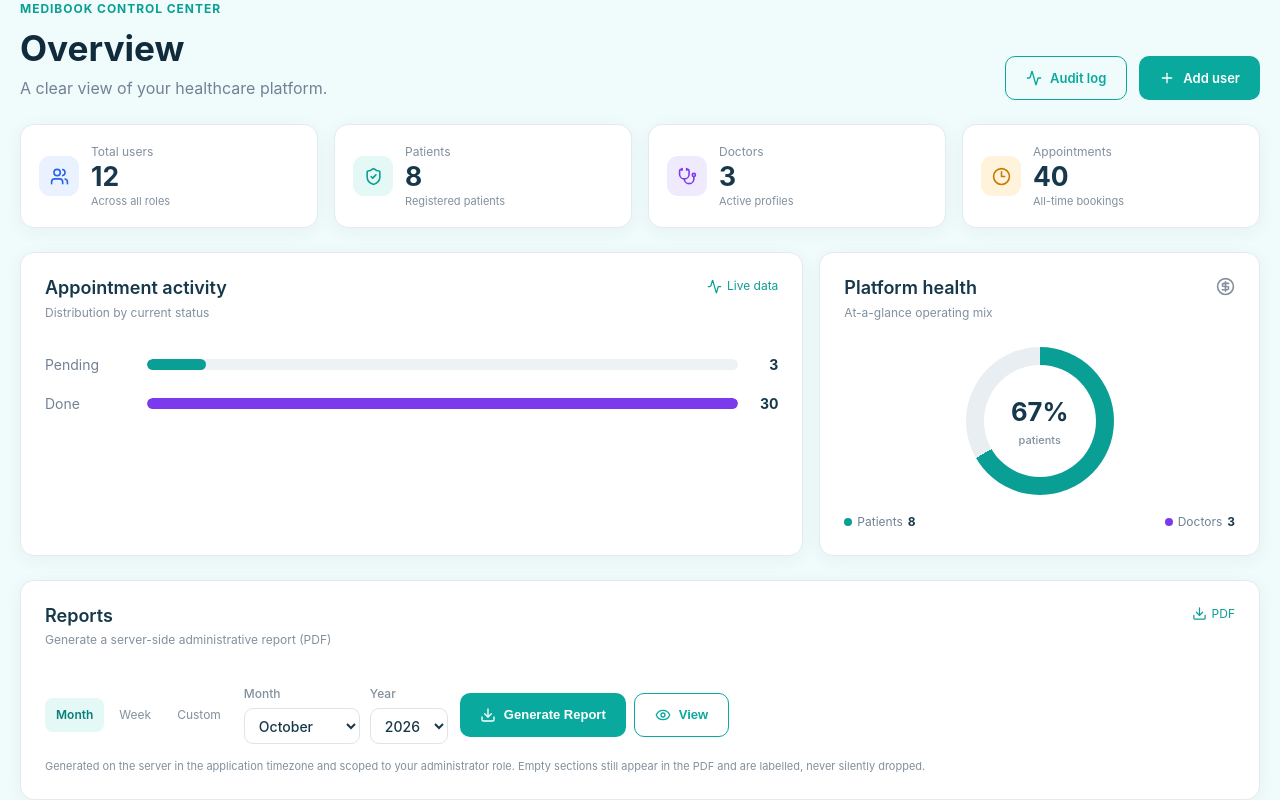
Scenario: AdminReportsCard › surfaces the server's reason when generation fails
This screenshot has width=1280, height=800.
Expected: the heading "Reports" is shown, [45, 605, 113, 626]
Step 1. Click the button "Generate Report" → (543, 715), box [460, 693, 626, 737]
(page scrolled)
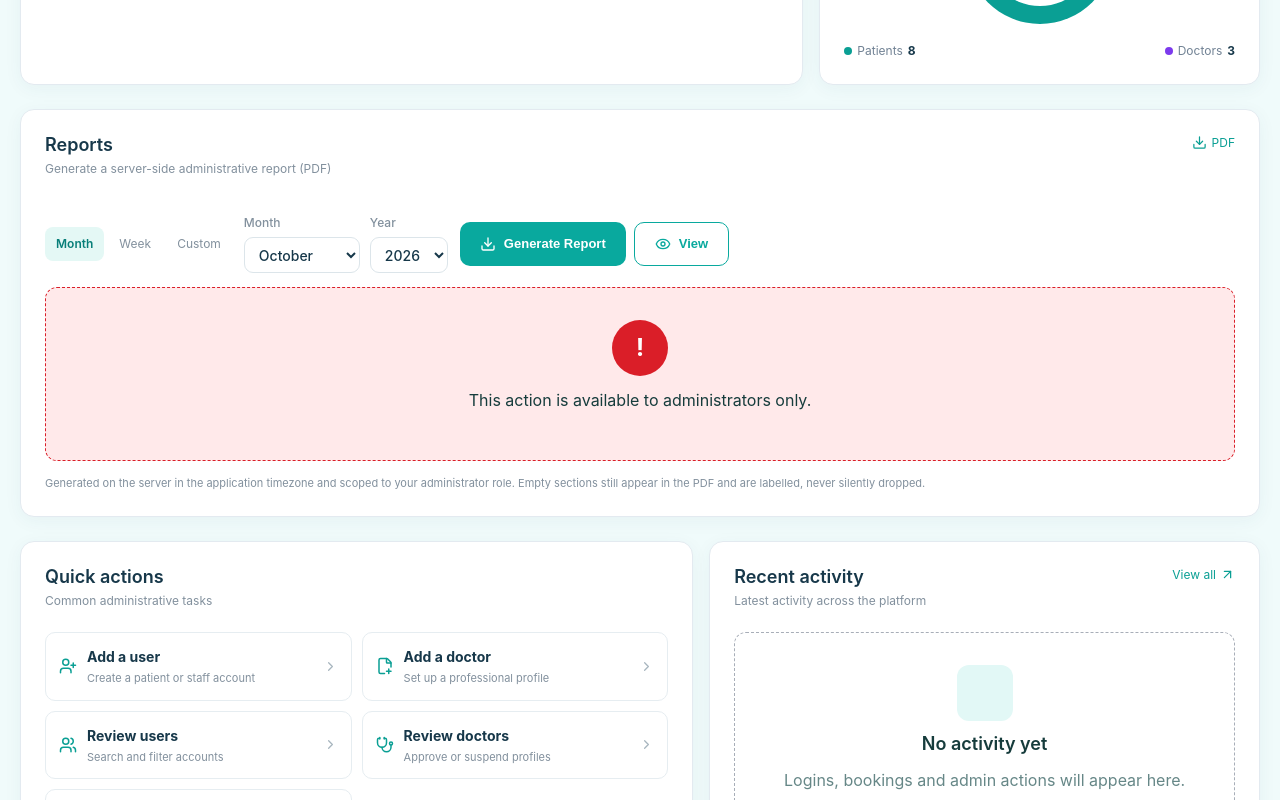
Expected: the text "This action is available to administrators only." is shown, [469, 390, 811, 410]
